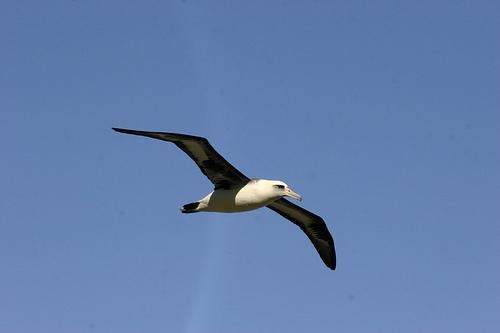bird: (109, 124, 337, 273)
